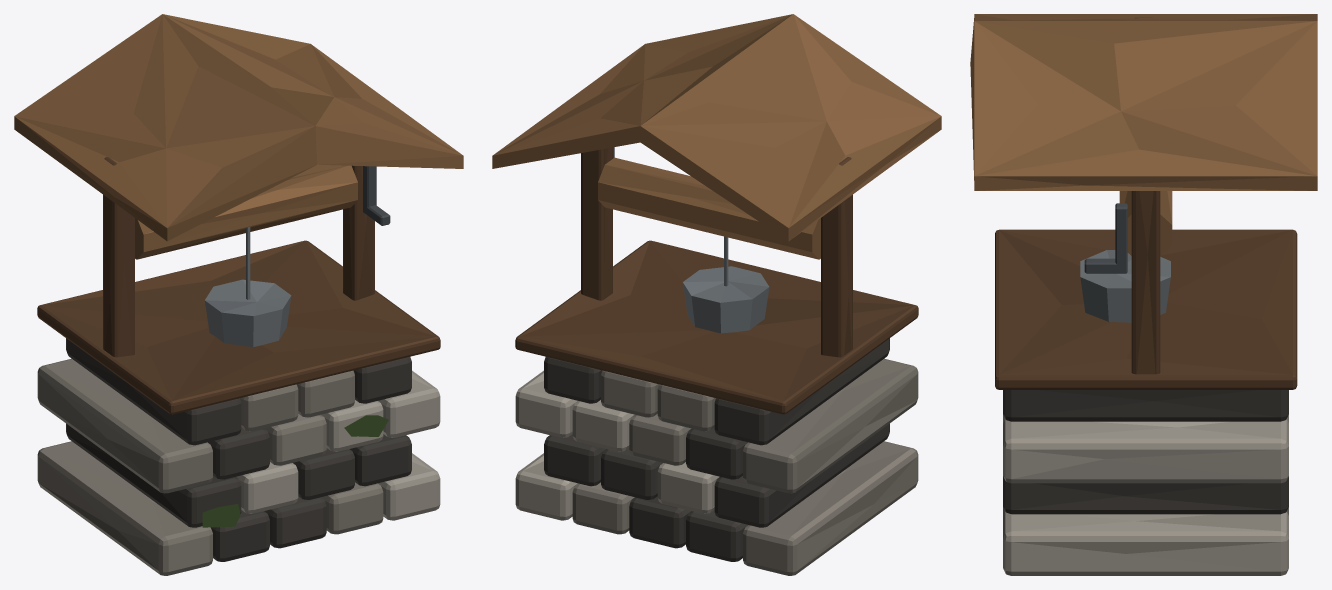
The model's file is well_hand_ruchnoy_kolodets_s_vorotom_idle.glb.
3 views of the same model, side by side, from view 1: azimuth 30°, elevation 25°; view 2: azimuth 150°, elevation 25°; view 3: azimuth 270°, elevation 25° (orthographic). The views are drawn at different scales.
Visible parts, largest first — view 1: well_hand_ruchnoy_kolodets_s_vorotom_idle; view 2: well_hand_ruchnoy_kolodets_s_vorotom_idle; view 3: well_hand_ruchnoy_kolodets_s_vorotom_idle.
Part boxes in pixels (x1,y1,x2,y2): well_hand_ruchnoy_kolodets_s_vorotom_idle: [14, 14, 463, 575]; well_hand_ruchnoy_kolodets_s_vorotom_idle: [492, 14, 941, 575]; well_hand_ruchnoy_kolodets_s_vorotom_idle: [970, 14, 1317, 575].
Size of the model in its own units: 0.94 by 1.3 by 0.8501.
Materials: 1 (1 with a texture image).
